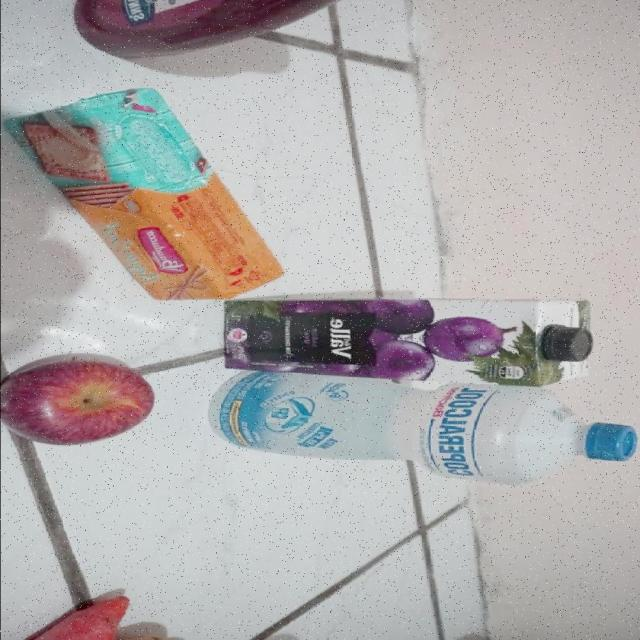AlcoholBottle: (209, 383, 637, 485)
Apple: (0, 358, 158, 451)
Carrot: (0, 596, 130, 640)
Cracker: (5, 85, 285, 302)
Ketchup: (75, 0, 419, 58)
